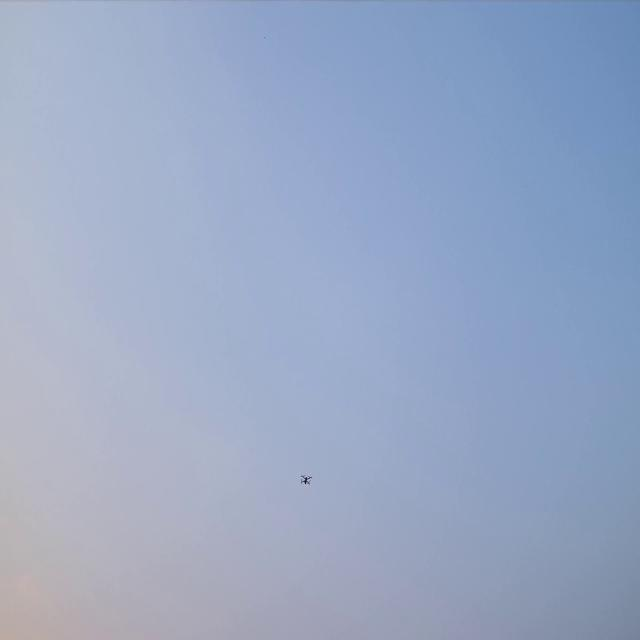UAV: (299, 473, 313, 486)
